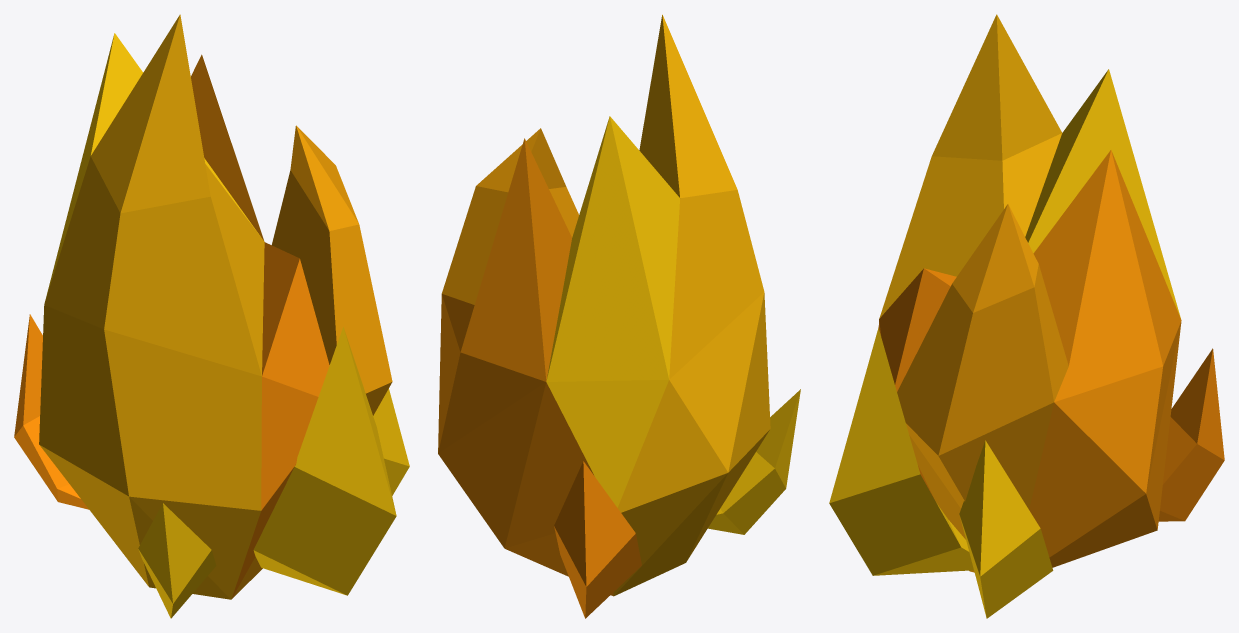
File: fire_orgin.FBX
The picture shows the model from 3 angles, left to right: view 1: azimuth 30°, elevation 25°; view 2: azimuth 150°, elevation 25°; view 3: azimuth 270°, elevation 25°; orthographic projection. The views are drawn at different scales.
Parts seen in each view (by area): view 1: campfire; view 2: campfire; view 3: campfire.
Part boxes in pixels (x1=…): campfire: x1=14, y1=14, x2=409, y2=618; campfire: x1=438, y1=14, x2=800, y2=618; campfire: x1=829, y1=14, x2=1224, y2=618.
Size of the model in its own units: 8.09 by 13.84 by 9.17.
1 material, 1 textured.
